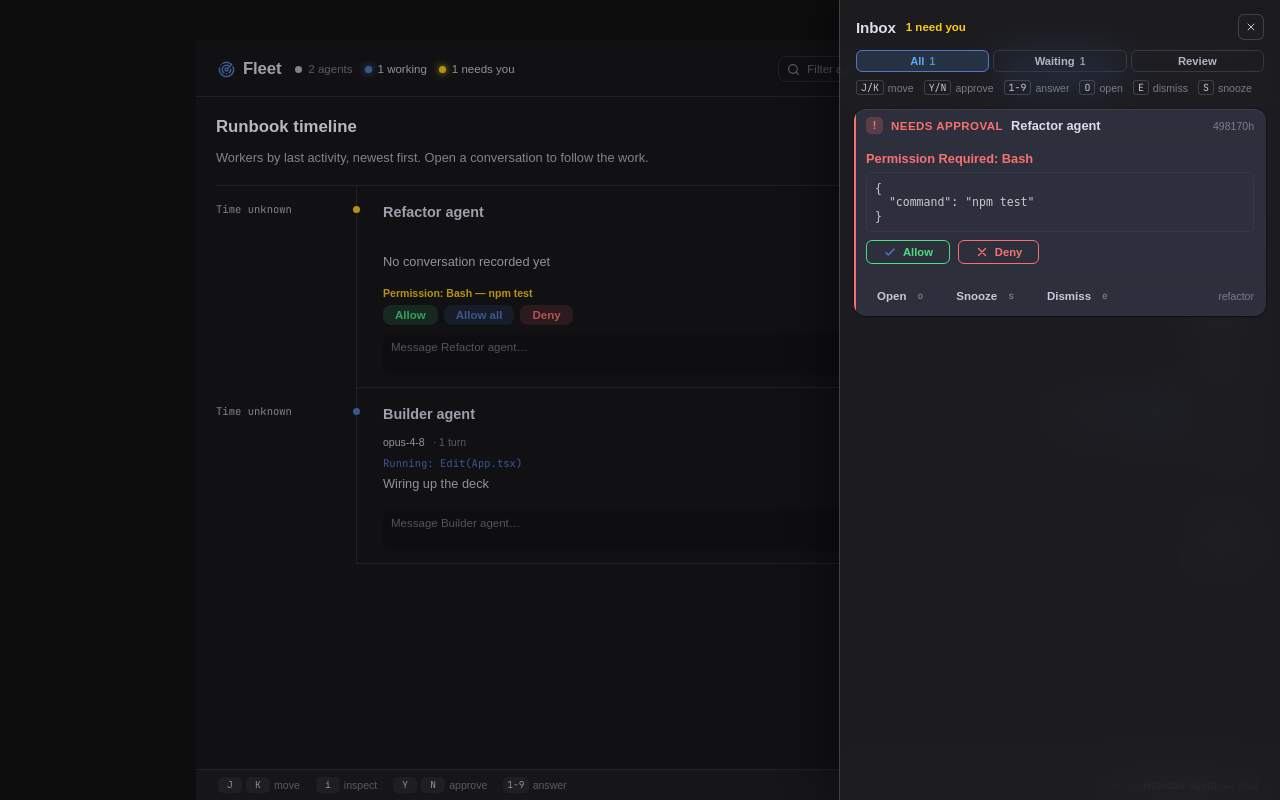
Scenario: Mission Control surfaces › clears an agent's inbox items when you open it
Check: the text "Permission Required: Bash" is shown, box [866, 151, 1033, 166]
# Opening it from the card footer is the triage action.
Click the button "Open o" at x=903, y=296, box [866, 283, 939, 308]
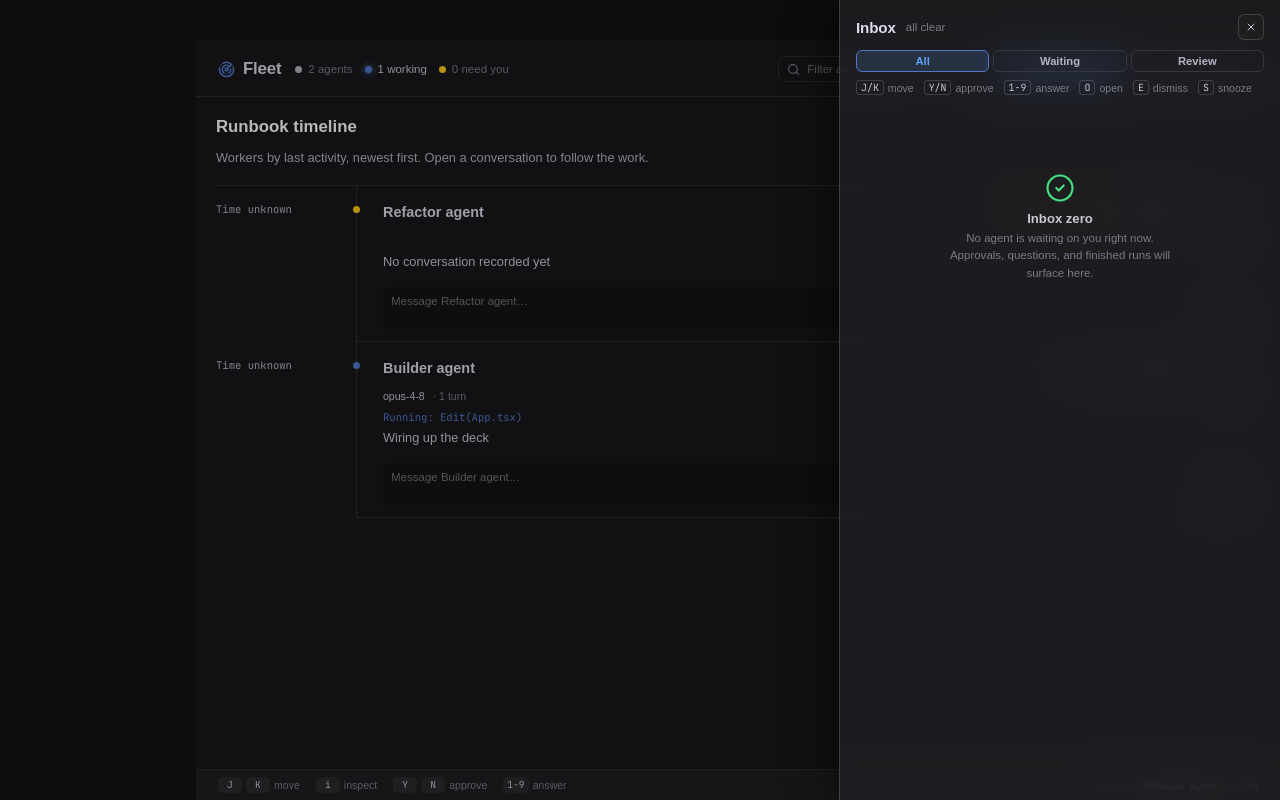
Check: the text "Permission Required: Bash" is gone
